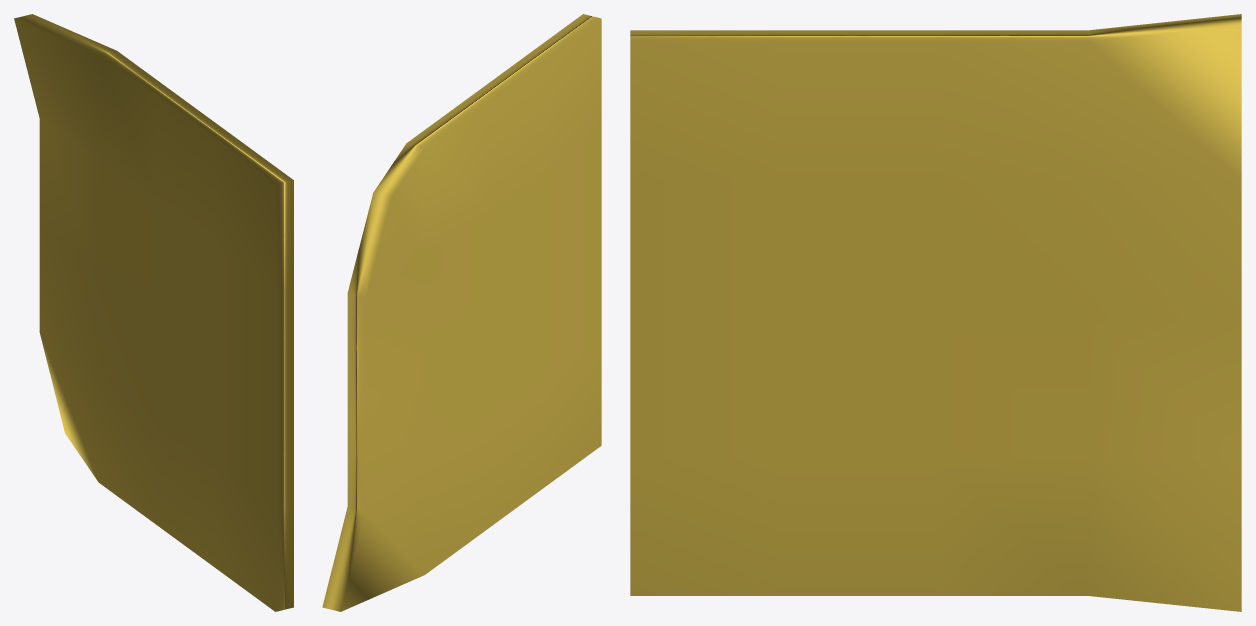
File: StickyNote.fbx
3 renders of one model, left to right at view 1: azimuth 30°, elevation 25°; view 2: azimuth 150°, elevation 25°; view 3: azimuth 270°, elevation 25°, orthographic. The views are drawn at different scales.
Parts seen in each view (by area): view 1: Cube; view 2: Cube; view 3: Cube.
Boxes of the visible parts, x1,y1,x2,y2 form: Cube: (14, 14, 293, 611); Cube: (322, 14, 601, 611); Cube: (630, 14, 1241, 611).
Size of the model in its own units: 34.03 by 200 by 200.
